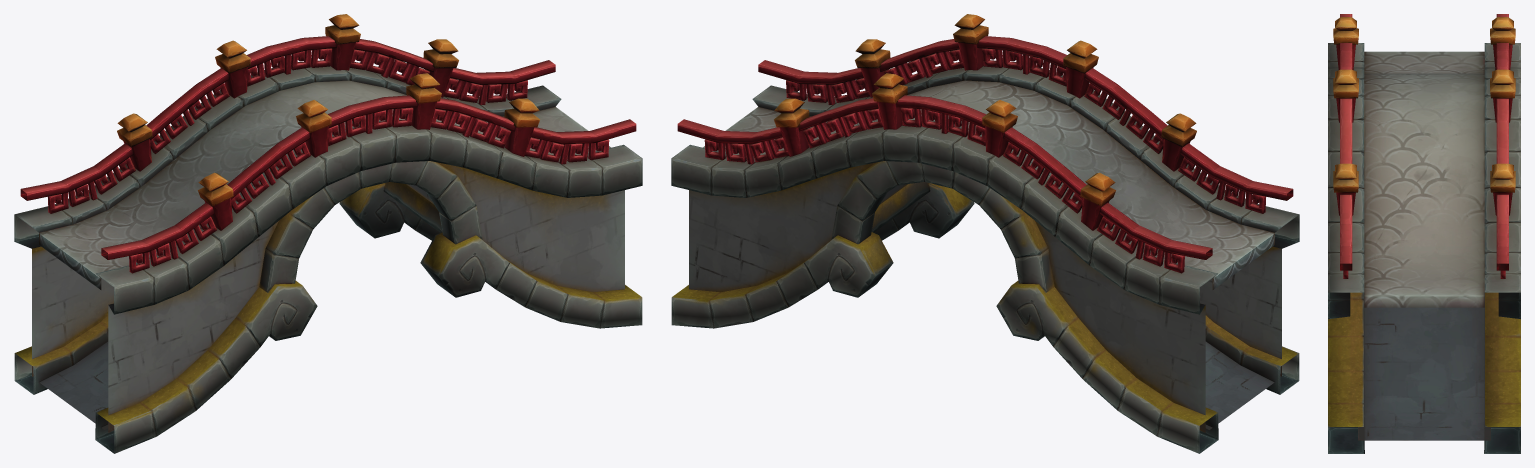
File: SM_Bridge.glb
The picture shows the model from 3 angles, left to right: view 1: azimuth 30°, elevation 25°; view 2: azimuth 150°, elevation 25°; view 3: azimuth 270°, elevation 25°; orthographic projection. The views are drawn at different scales.
Parts seen in each view (by area): view 1: SM_Bridge; view 2: SM_Bridge; view 3: SM_Bridge.
Part boxes in pixels (x1,y1,x2,y2): SM_Bridge: (14, 14, 642, 453); SM_Bridge: (671, 14, 1299, 453); SM_Bridge: (1328, 14, 1520, 453).
Bounding box in the file's own units: 17.62 × 9.35 × 5.75.
Materials: 2 (2 with a texture image).
